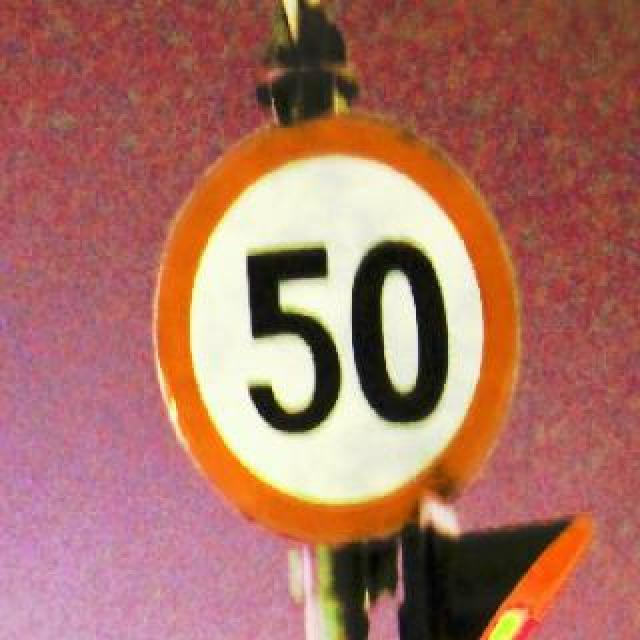50 kph: (152, 112, 516, 540)
